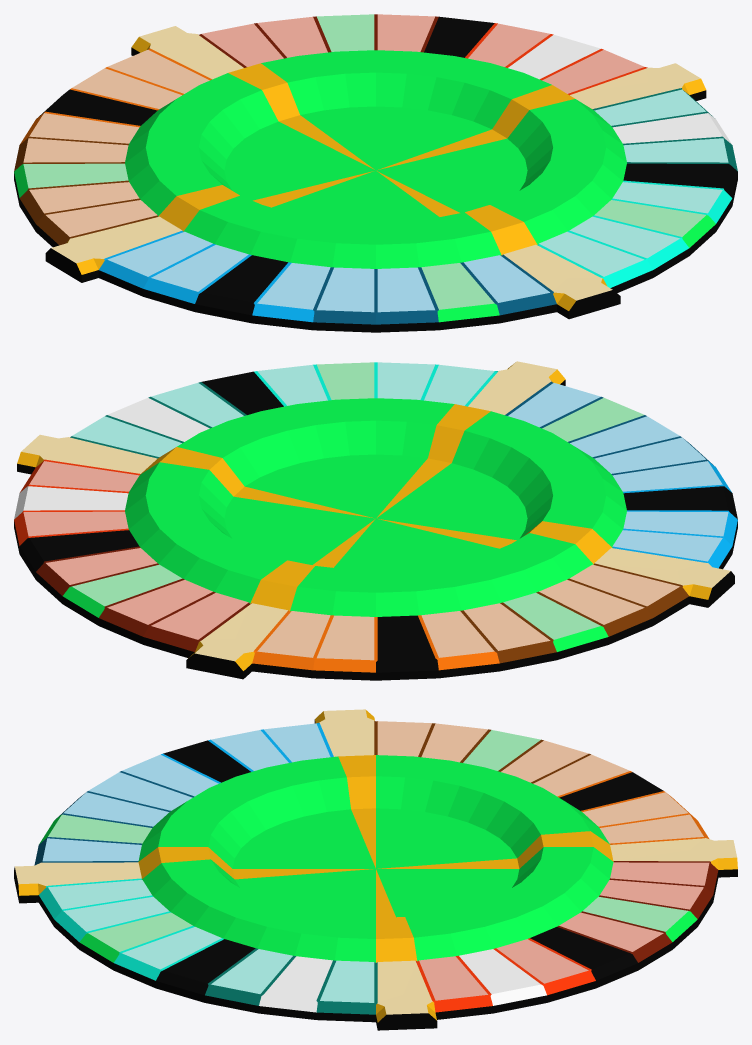
The model's file is plateau.glb.
3 views of the same model, one above another, from view 1: azimuth 30°, elevation 25°; view 2: azimuth 150°, elevation 25°; view 3: azimuth 270°, elevation 25° (orthographic). The views are drawn at different scales.
Visible parts, largest first — view 1: Cylinder; view 2: Cylinder; view 3: Cylinder.
Boxes of the visible parts, box(x1,y1,x2,y2) form: Cylinder: box(14, 14, 737, 332); Cylinder: box(14, 361, 737, 680); Cylinder: box(14, 709, 737, 1030).
Size of the model in its own units: 2.11 by 0.0983 by 2.11.
Materials: 1 (1 with a texture image).
